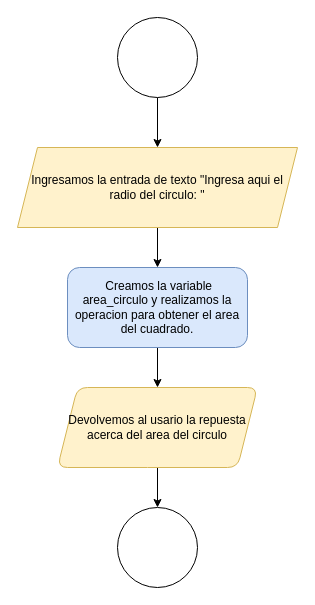
This 315x605 diagram has some shape labels left out. The centre of each missing label's shape, as x and y in pixels:
"FIN" goes at point 157,547.
"Inicio" goes at point 157,57.
